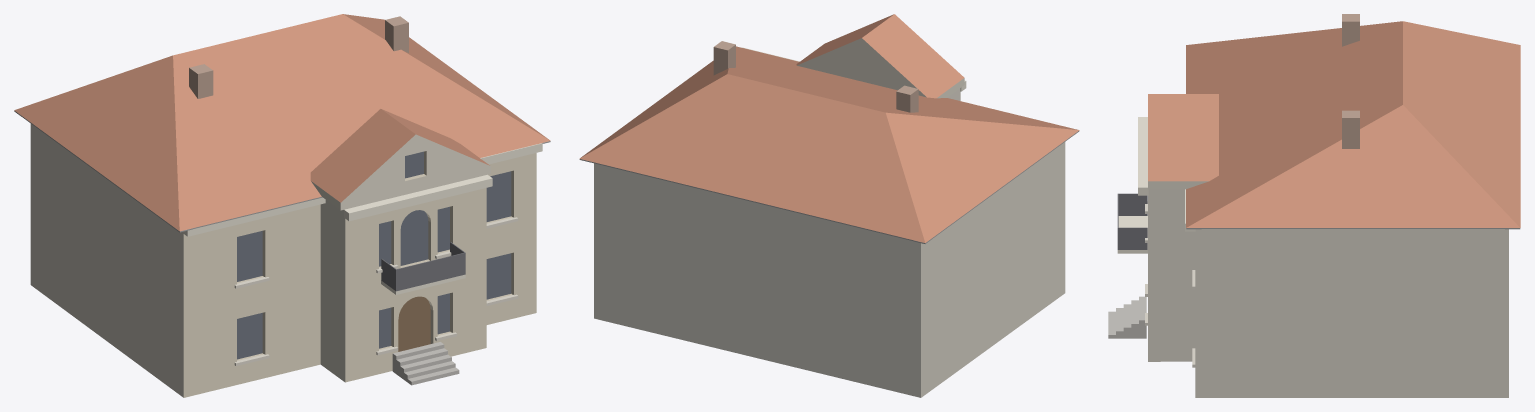
The picture shows the model from 3 angles, left to right: view 1: azimuth 30°, elevation 25°; view 2: azimuth 150°, elevation 25°; view 3: azimuth 270°, elevation 25°; orthographic projection. The views are drawn at different scales.
Visible parts, largest first — view 1: CP_930_Masonry, CP_930_Roof, CP_930_Dormer_gable, CP_930_Cornice_main_eave_0, CP_930_Balcony_0_rail_f, CP_930_Cornice_left_l_eave_0, CP_930_Chimney_0, CP_930_Chimney_1, CP_930_Cornice_right_r_eave_0, CP_930_Step_0_4; view 2: CP_930_Masonry, CP_930_Roof, CP_930_Dormer_gable, CP_930_Chimney_1, CP_930_Chimney_0, CP_930_Roof_EaveClosure_2; view 3: CP_930_Roof, CP_930_Masonry, CP_930_Dormer_gable, CP_930_Cornice_main_eave_0, CP_930_Chimney_1, CP_930_Balcony_0_rail_r, CP_930_Balcony_0_rail_l, CP_930_Chimney_0, CP_930_Balcony_0_slab.
Part boxes in pixels (x1,y1,x2,y2): CP_930_Masonry: (30,123,536,397); CP_930_Roof: (14,14,550,231); CP_930_Dormer_gable: (310,109,490,210); CP_930_Cornice_main_eave_0: (344,174,492,221); CP_930_Balcony_0_rail_f: (395,252,465,291); CP_930_Cornice_left_l_eave_0: (182,197,325,236); CP_930_Chimney_0: (189,64,213,98); CP_930_Chimney_1: (385,16,408,52); CP_930_Cornice_right_r_eave_0: (480,143,542,164); CP_930_Step_0_4: (392,342,444,373); CP_930_Masonry: (594,88,1065,397); CP_930_Roof: (579,46,1079,242); CP_930_Dormer_gable: (796,14,964,98); CP_930_Chimney_1: (713,41,735,75); CP_930_Chimney_0: (896,85,918,112); CP_930_Roof_EaveClosure_2: (592,162,932,243); CP_930_Roof: (1186,21,1520,227); CP_930_Masonry: (1148,189,1508,397); CP_930_Dormer_gable: (1148,94,1218,189); CP_930_Cornice_main_eave_0: (1138,117,1148,195); CP_930_Chimney_1: (1342,110,1359,148); CP_930_Balcony_0_rail_r: (1118,227,1147,249); CP_930_Balcony_0_rail_l: (1118,193,1147,215); CP_930_Chimney_0: (1342,14,1359,46); CP_930_Balcony_0_slab: (1117,216,1147,253).
Size of the model in its own units: 17.06 by 11 by 16.24.
